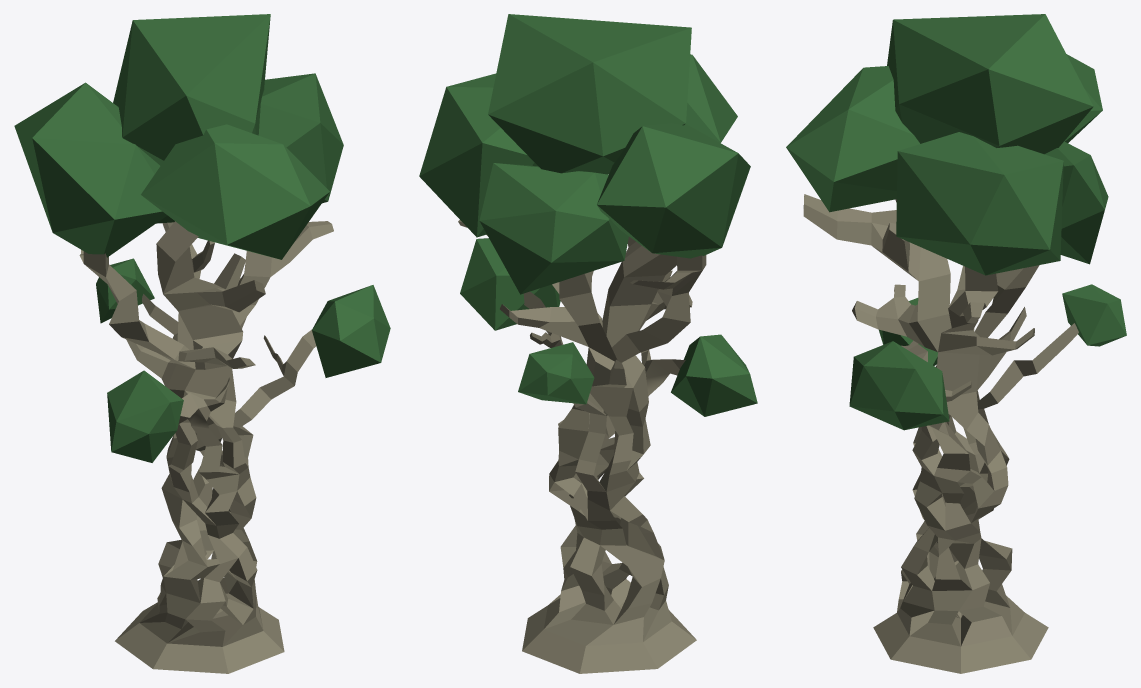
File: tree.fbx
The picture shows the model from 3 angles, left to right: view 1: azimuth 30°, elevation 25°; view 2: azimuth 150°, elevation 25°; view 3: azimuth 270°, elevation 25°; orthographic projection. The views are drawn at different scales.
Visible parts, largest first — view 1: Wood, Leaves, Leaves5, Leaves4, Leaves6, Leaves7, Leaves1, Leaves3; view 2: Wood, Leaves, Leaves5, Leaves2, Leaves6, Leaves1, Leaves7, Leaves3, Leaves4; view 3: Wood, Leaves, Leaves6, Leaves4, Leaves7, Leaves2, Leaves3, Leaves5, Leaves1.
Part boxes in pixels (left/top/right/bottom): Wood: left=79, top=221, right=333, bottom=673; Leaves: left=113, top=14, right=270, bottom=165; Leaves5: left=14, top=82, right=167, bottom=257; Leaves4: left=141, top=124, right=329, bottom=259; Leaves6: left=258, top=73, right=343, bottom=203; Leaves7: left=312, top=285, right=390, bottom=377; Leaves1: left=107, top=370, right=183, bottom=462; Leaves3: left=96, top=258, right=154, bottom=323; Wood: left=458, top=220, right=706, bottom=673; Leaves: left=488, top=14, right=691, bottom=174; Leaves5: left=597, top=123, right=750, bottom=258; Leaves2: left=479, top=163, right=628, bottom=294; Leaves6: left=419, top=73, right=537, bottom=237; Leaves1: left=671, top=334, right=757, bottom=416; Leaves7: left=460, top=238, right=560, bottom=330; Leaves3: left=518, top=342, right=594, bottom=404; Leaves4: left=686, top=54, right=737, bottom=142; Wood: left=803, top=194, right=1078, bottom=673; Leaves: left=887, top=14, right=1093, bottom=154; Leaves6: left=896, top=132, right=1063, bottom=275; Leaves4: left=786, top=66, right=919, bottom=212; Leaves7: left=849, top=341, right=949, bottom=430; Leaves2: left=1044, top=141, right=1108, bottom=264; Leaves3: left=1062, top=284, right=1126, bottom=346; Leaves5: left=1064, top=54, right=1102, bottom=142; Leaves1: left=879, top=298, right=937, bottom=365.
Bounding box in the file's own units: 85.97 × 160 × 81.5.
